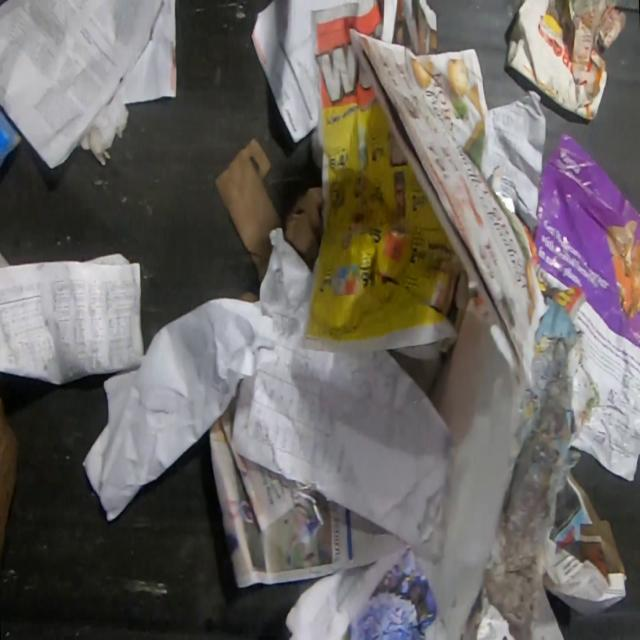cardboard: (216, 133, 322, 285), (502, 0, 607, 122), (1, 394, 16, 548)
